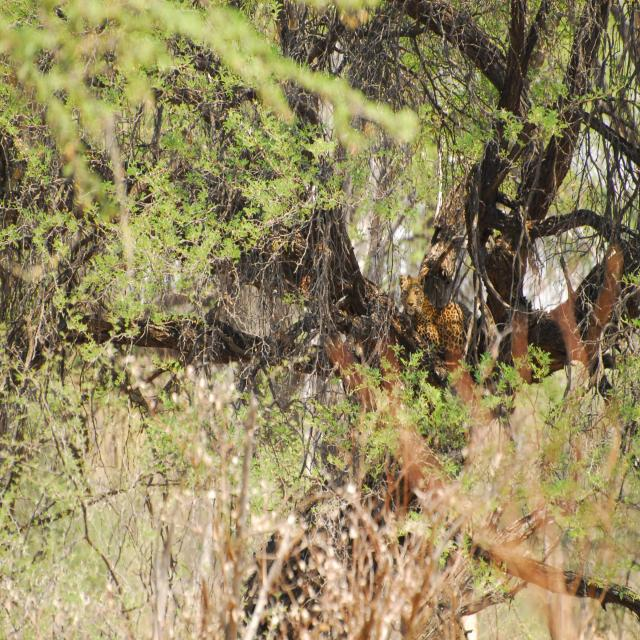Leopard: (388, 273, 486, 362)
